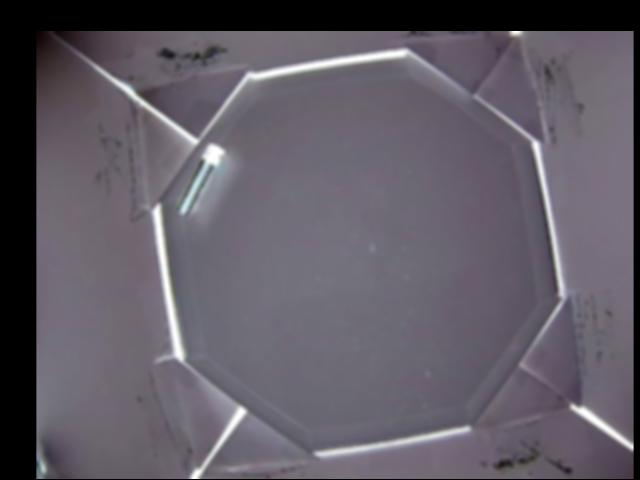Battery: (176, 143, 225, 217)
